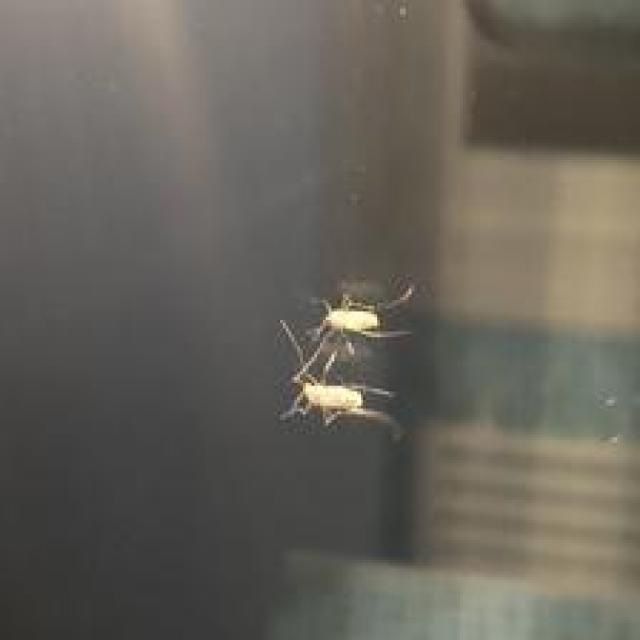Culex: (274, 273, 417, 444)
